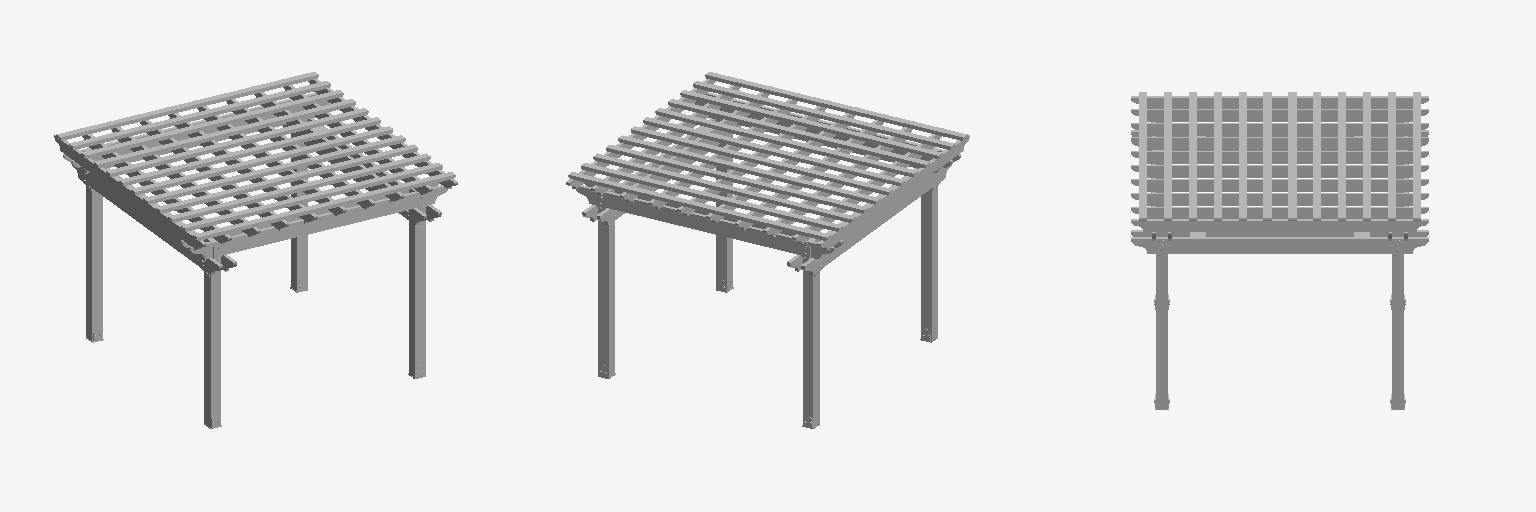
File: santa-monica-12x12-ogee.obj
The picture shows the model from 3 angles: view 1: azimuth 30°, elevation 25°; view 2: azimuth 150°, elevation 25°; view 3: azimuth 270°, elevation 25°; orthographic projection.
Parts seen in each view (by area): view 1: Mesh126 header1 Group27 Group1 Model, Mesh165 Component_95_3 Group1 Model, Mesh178 Component_95_4 Group1 Model, Mesh164 Component_95_2 Group1 Model, Mesh179 Component_4_1 Group1 Model, Mesh186 Component_4_8 Group1 Model, Mesh190 Component_4_12 Group1 Model, Mesh182 Component_4_4 Group1 Model, Mesh189 Component_4_11 Group1 Model, Mesh180 Component_4_2 Group1 Model, Mesh188 Component_4_10 Group1 Model, Mesh181 Component_4_3 Group1 Model (+17 smaller); view 2: Mesh140 header3 Group33 Group1 Model, Mesh159 Component_95_1 Group1 Model, Mesh164 Component_95_2 Group1 Model, Mesh178 Component_95_4 Group1 Model, Mesh190 Component_4_12 Group1 Model, Mesh179 Component_4_1 Group1 Model, Mesh180 Component_4_2 Group1 Model, Mesh186 Component_4_8 Group1 Model, Mesh182 Component_4_4 Group1 Model, Mesh189 Component_4_11 Group1 Model, Mesh185 Component_4_7 Group1 Model, Mesh181 Component_4_3 Group1 Model (+17 smaller); view 3: Mesh158 header_2x8_ogee_20_4 Group39 Group1 Model, Mesh146 joist8 Group35 Group1 Model, Mesh152 joist9 Group37 Group1 Model, Mesh105 joist1 Group22 Group1 Model, Mesh110 joist2 Group23 Group1 Model, Mesh115 joist3 Group24 Group1 Model, Mesh120 joist4 Group25 Group1 Model, Mesh125 joist5 Group26 Group1 Model, Mesh131 joist6 Group28 Group1 Model, Mesh157 joist10 Group38 Group1 Model, Mesh139 joist7 Group32 Group1 Model, Mesh165 Component_95_3 Group1 Model (+14 smaller).
Part boxes in pixels (left/top/right/bottom): Mesh126 header1 Group27 Group1 Model: left=189, top=185, right=447, bottom=259; Mesh165 Component_95_3 Group1 Model: left=409, top=189, right=425, bottom=377; Mesh178 Component_95_4 Group1 Model: left=204, top=238, right=220, bottom=427; Mesh164 Component_95_2 Group1 Model: left=86, top=149, right=102, bottom=341; Mesh179 Component_4_1 Group1 Model: left=143, top=135, right=405, bottom=204; Mesh186 Component_4_8 Group1 Model: left=168, top=153, right=430, bottom=222; Mesh190 Component_4_12 Group1 Model: left=81, top=90, right=343, bottom=158; Mesh182 Component_4_4 Group1 Model: left=106, top=108, right=368, bottom=176; Mesh189 Component_4_11 Group1 Model: left=56, top=72, right=318, bottom=140; Mesh180 Component_4_2 Group1 Model: left=193, top=172, right=455, bottom=240; Mesh188 Component_4_10 Group1 Model: left=69, top=81, right=330, bottom=149; Mesh181 Component_4_3 Group1 Model: left=131, top=126, right=392, bottom=195; Mesh140 header3 Group33 Group1 Model: left=576, top=185, right=834, bottom=259; Mesh159 Component_95_1 Group1 Model: left=598, top=189, right=614, bottom=377; Mesh164 Component_95_2 Group1 Model: left=803, top=238, right=819, bottom=427; Mesh178 Component_95_4 Group1 Model: left=921, top=149, right=937, bottom=341; Mesh190 Component_4_12 Group1 Model: left=593, top=153, right=855, bottom=222; Mesh179 Component_4_1 Group1 Model: left=655, top=108, right=917, bottom=176; Mesh180 Component_4_2 Group1 Model: left=705, top=72, right=967, bottom=140; Mesh186 Component_4_8 Group1 Model: left=680, top=90, right=942, bottom=158; Mesh182 Component_4_4 Group1 Model: left=618, top=135, right=880, bottom=204; Mesh189 Component_4_11 Group1 Model: left=568, top=172, right=830, bottom=240; Mesh185 Component_4_7 Group1 Model: left=668, top=99, right=929, bottom=167; Mesh181 Component_4_3 Group1 Model: left=643, top=117, right=904, bottom=185; Mesh158 header_2x8_ogee_20_4 Group39 Group1 Model: left=1131, top=237, right=1428, bottom=253; Mesh146 joist8 Group35 Group1 Model: left=1131, top=219, right=1428, bottom=231; Mesh152 joist9 Group37 Group1 Model: left=1131, top=96, right=1428, bottom=108; Mesh105 joist1 Group22 Group1 Model: left=1131, top=165, right=1428, bottom=177; Mesh110 joist2 Group23 Group1 Model: left=1131, top=123, right=1428, bottom=135; Mesh115 joist3 Group24 Group1 Model: left=1131, top=179, right=1428, bottom=191; Mesh120 joist4 Group25 Group1 Model: left=1131, top=193, right=1428, bottom=205; Mesh125 joist5 Group26 Group1 Model: left=1131, top=137, right=1428, bottom=149; Mesh131 joist6 Group28 Group1 Model: left=1131, top=151, right=1428, bottom=163; Mesh157 joist10 Group38 Group1 Model: left=1131, top=109, right=1428, bottom=121; Mesh139 joist7 Group32 Group1 Model: left=1131, top=207, right=1428, bottom=218; Mesh165 Component_95_3 Group1 Model: left=1156, top=232, right=1167, bottom=409.
Bounding box in the file's own units: 144 × 108 × 144.